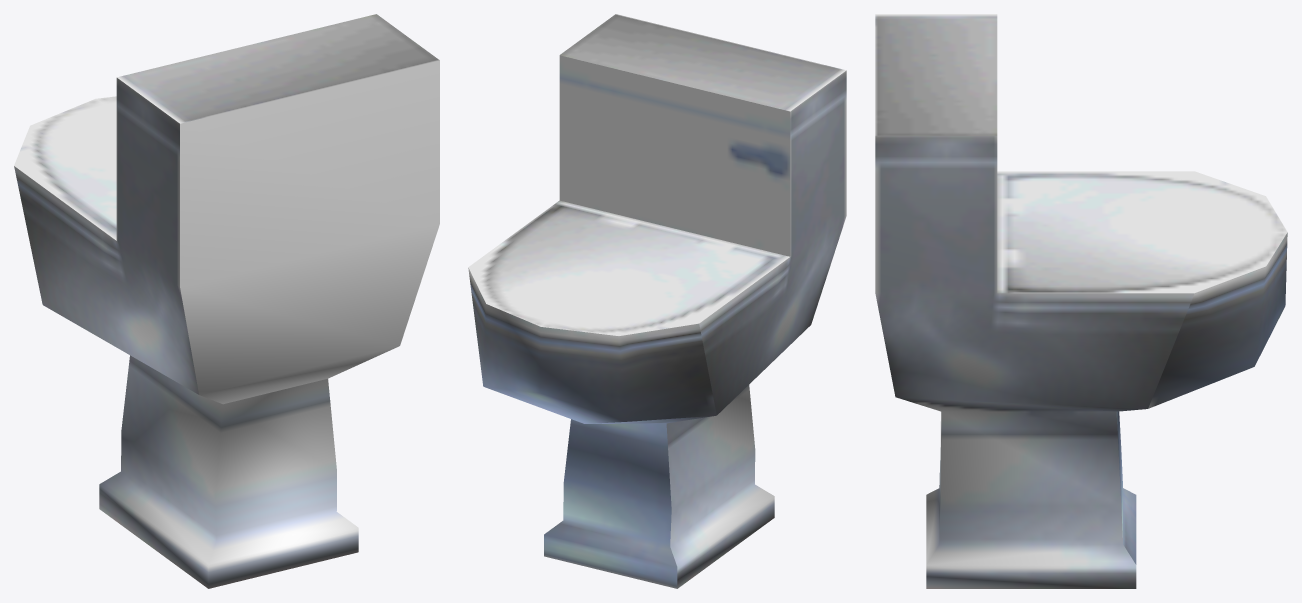
The model's file is ToiletMesh.obj.
3 renders of one model, left to right at view 1: azimuth 30°, elevation 25°; view 2: azimuth 150°, elevation 25°; view 3: azimuth 270°, elevation 25°, orthographic. The views are drawn at different scales.
Visible parts, largest first — view 1: material_0; view 2: material_0; view 3: material_0.
Boxes of the visible parts, x1,y1,x2,y2 form: material_0: [14, 14, 439, 588]; material_0: [468, 14, 846, 588]; material_0: [875, 14, 1287, 588].
Bounding box in the file's own units: 54.93 × 101 × 78.47.
Materials: 1 (1 with a texture image).
